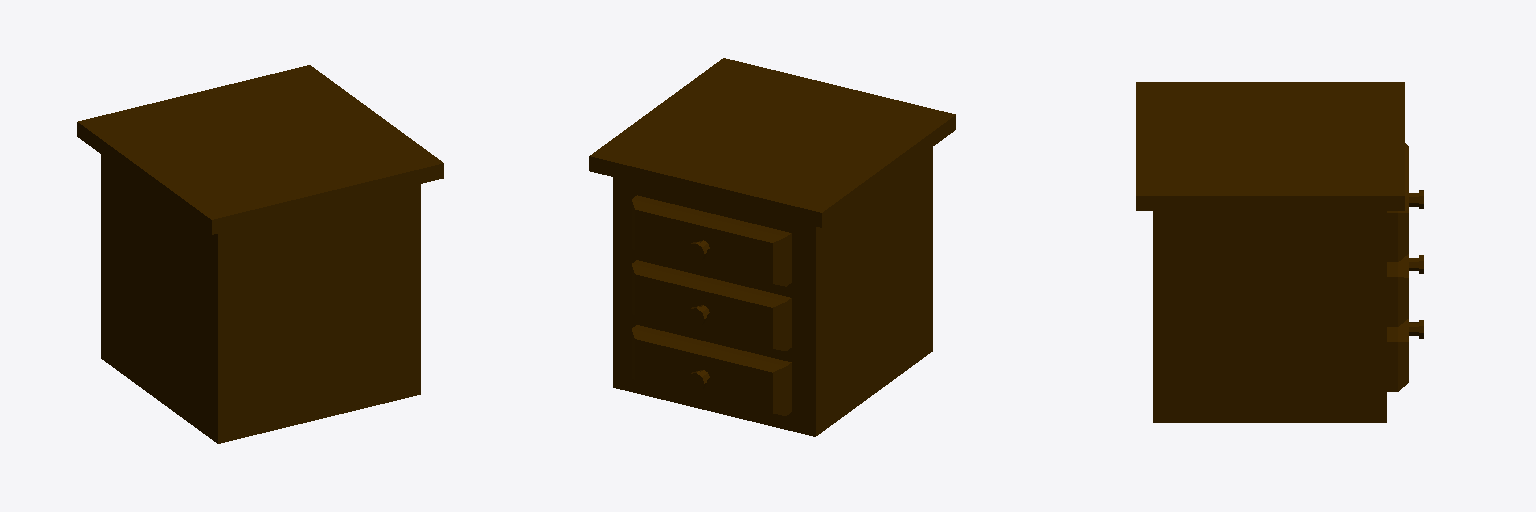
File: Dresser_01.obj
The picture shows the model from 3 angles: view 1: azimuth 30°, elevation 25°; view 2: azimuth 150°, elevation 25°; view 3: azimuth 270°, elevation 25°; orthographic projection.
Parts seen in each view (by area): view 1: Dresser_01_Cube; view 2: Dresser_01_Cube; view 3: Dresser_01_Cube.
Part boxes in pixels (left/top/right/bottom): Dresser_01_Cube: left=77, top=65, right=443, bottom=443; Dresser_01_Cube: left=589, top=58, right=955, bottom=436; Dresser_01_Cube: left=1136, top=82, right=1423, bottom=422.
Size of the model in its own units: 1.19 by 1.15 by 1.28.